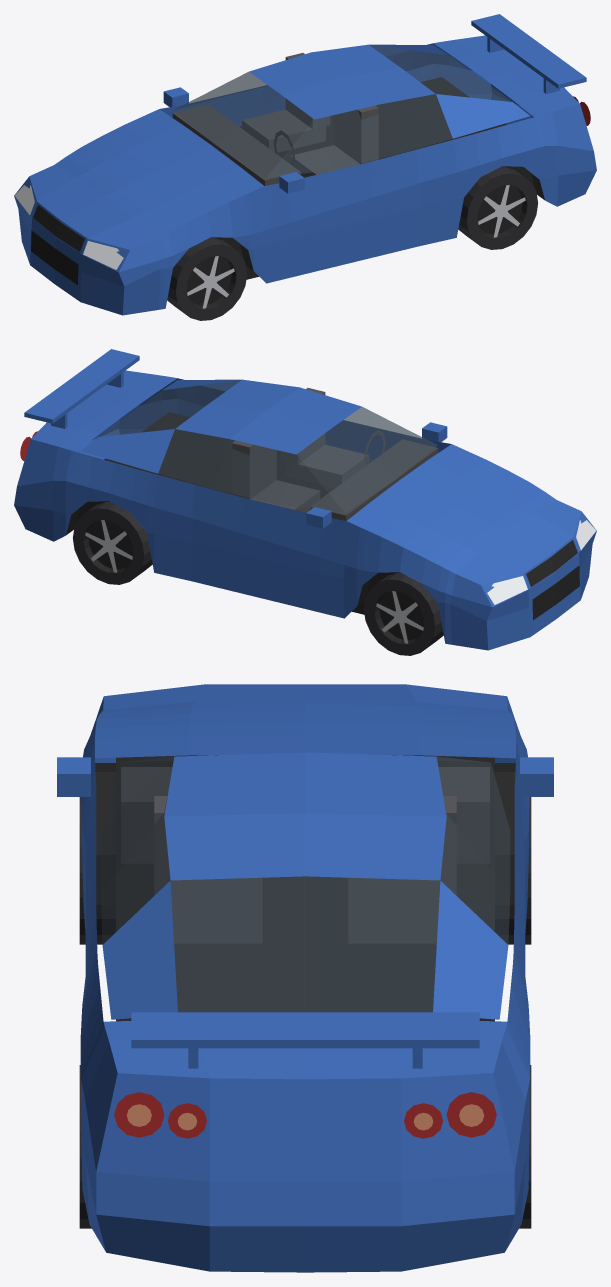
File: r34_real.glb
3 views of the same model, one above another, from view 1: azimuth 30°, elevation 25°; view 2: azimuth 150°, elevation 25°; view 3: azimuth 270°, elevation 25° (orthographic). The views are drawn at different scales.
Parts seen in each view (by area): view 1: r34_bonnet, r34_door, r34_roof, r34_quarter, r34_glass_side, r34_glass_front, r34_bumper_front, r34_cabin_floor, r34_wing_front, r34_boot_lid, r34_bumper_rear, r34_dash (+16 smaller); view 2: r34_bonnet, r34_door, r34_roof, r34_quarter, r34_glass_side, r34_glass_front, r34_bumper_front, r34_cabin_floor, r34_wing_front, r34_boot_lid, r34_bumper_rear, r34_dash (+16 smaller); view 3: r34_roof, r34_bumper_rear, r34_tail_panel, r34_glass_rear, r34_cabin_floor, r34_bonnet, r34_glass_side, r34_wing, r34_boot_lid, r34_dash, r34_seat_L, r34_seat_R (+10 smaller).
Part boxes in pixels (bbox=[...]): r34_bonnet: bbox=[29, 109, 263, 249]; r34_door: bbox=[159, 85, 418, 283]; r34_roof: bbox=[249, 44, 529, 138]; r34_quarter: bbox=[385, 43, 558, 246]; r34_glass_side: bbox=[175, 72, 452, 177]; r34_glass_front: bbox=[173, 72, 313, 177]; r34_bumper_front: bbox=[14, 196, 165, 315]; r34_cabin_floor: bbox=[167, 77, 535, 298]; r34_wing_front: bbox=[155, 186, 266, 307]; r34_boot_lid: bbox=[433, 35, 579, 116]; r34_bumper_rear: bbox=[433, 64, 596, 206]; r34_dash: bbox=[172, 104, 300, 185]; r34_bonnet: bbox=[347, 444, 581, 584]; r34_door: bbox=[192, 420, 451, 618]; r34_roof: bbox=[81, 379, 361, 473]; r34_quarter: bbox=[52, 378, 225, 581]; r34_glass_side: bbox=[158, 407, 435, 512]; r34_glass_front: bbox=[297, 407, 437, 512]; r34_bumper_front: bbox=[445, 531, 596, 650]; r34_cabin_floor: bbox=[75, 412, 443, 633]; r34_wing_front: bbox=[344, 521, 455, 642]; r34_boot_lid: bbox=[31, 370, 177, 451]; r34_bumper_rear: bbox=[14, 399, 177, 541]; r34_dash: bbox=[310, 439, 438, 520]; r34_roof: bbox=[102, 752, 508, 1019]; r34_bumper_rear: bbox=[81, 1080, 529, 1272]; r34_tail_panel: bbox=[85, 1042, 525, 1181]; r34_glass_rear: bbox=[170, 876, 440, 1012]; r34_cabin_floor: bbox=[116, 755, 494, 1021]; r34_bonnet: bbox=[95, 684, 515, 758]; r34_glass_side: bbox=[100, 756, 510, 944]; r34_wing: bbox=[131, 1012, 479, 1048]; r34_boot_lid: bbox=[103, 1021, 507, 1079]; r34_dash: bbox=[121, 767, 489, 863]; r34_seat_L: bbox=[348, 796, 456, 943]; r34_seat_R: bbox=[154, 796, 262, 943].
Bounding box in the file's own units: 4.61 × 1.36 × 1.97.
